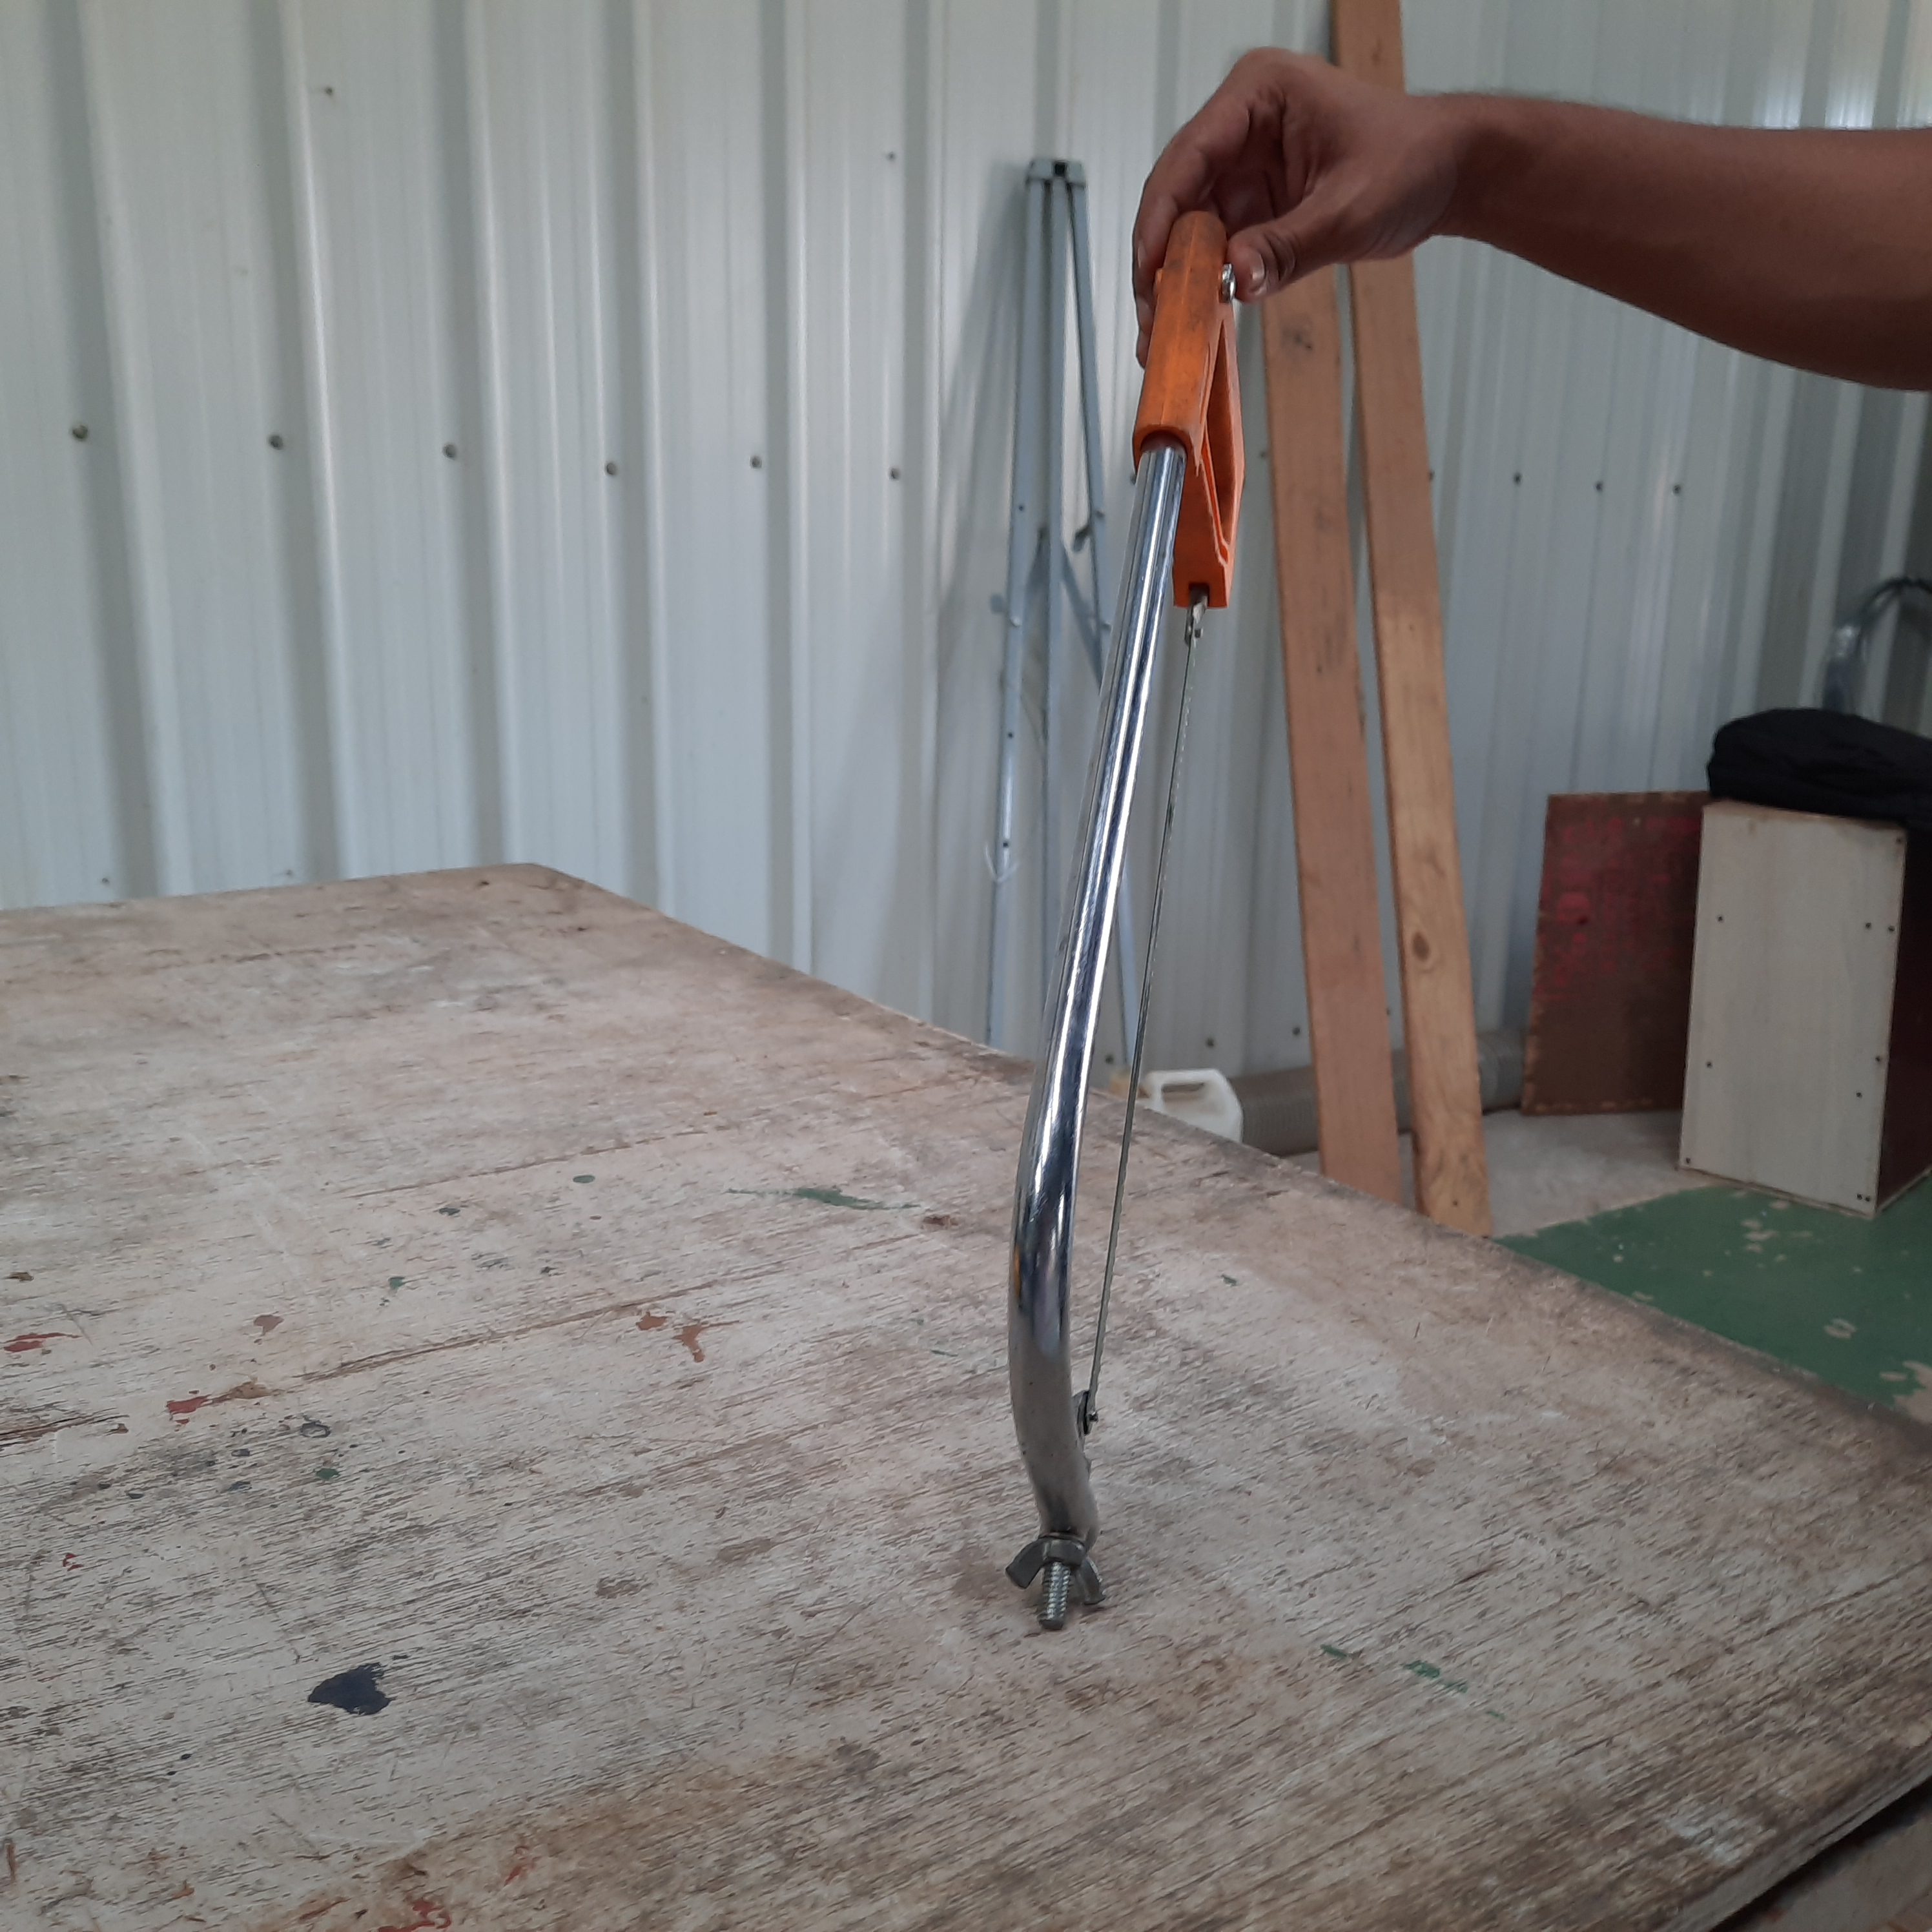Hexaframe: (959, 168, 1315, 1675)
